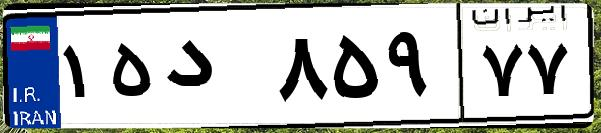1: (57, 26, 110, 100)
5: (330, 28, 385, 110), (110, 28, 158, 98)
7: (475, 38, 525, 113), (525, 38, 570, 115)
8: (270, 28, 330, 110)
9: (385, 28, 445, 110)
د: (158, 20, 270, 120)
